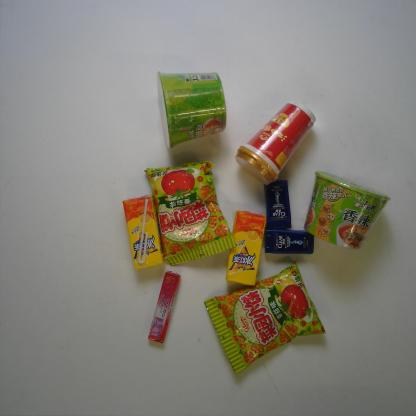Candy: (138, 266, 190, 353)
Drink: (119, 194, 174, 275), (226, 208, 268, 288)
Instant Drink: (235, 104, 324, 187)
Instant Noodles: (145, 64, 241, 156), (302, 160, 386, 253)
Personal Hygiene: (259, 174, 299, 233), (263, 222, 321, 260)
Puffed Food: (204, 265, 322, 378), (140, 163, 242, 273)
